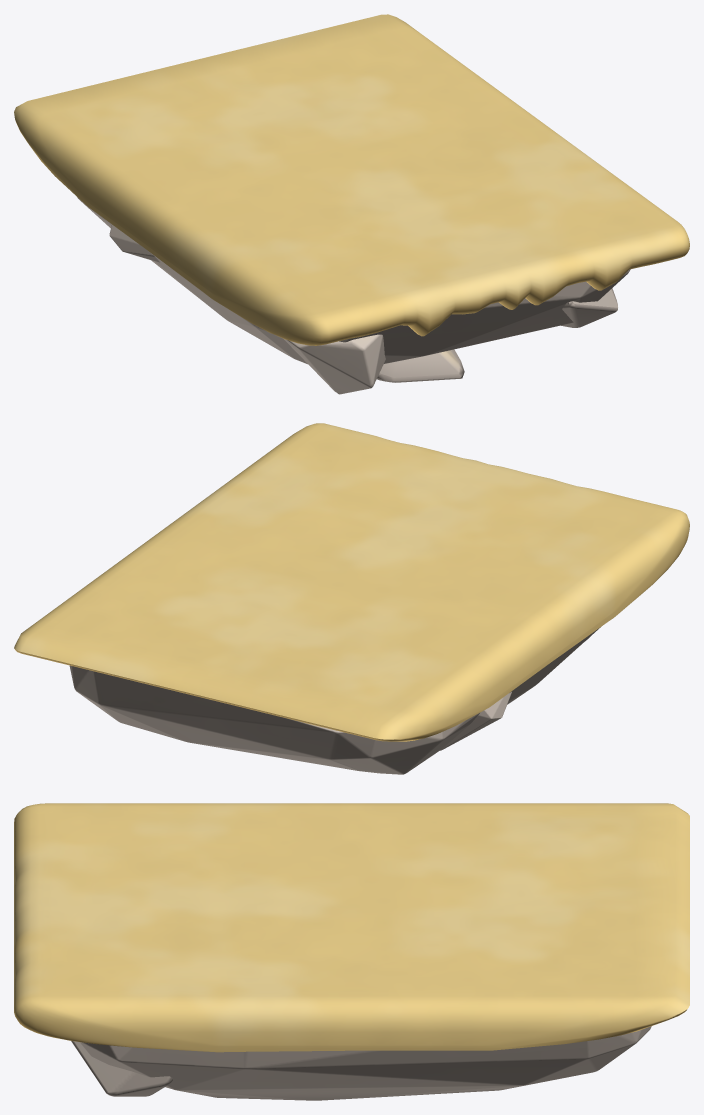
Rendered from CC_T06_IslandPlatform.fbx.
3 renders of one model, top to bottom at view 1: azimuth 30°, elevation 25°; view 2: azimuth 150°, elevation 25°; view 3: azimuth 270°, elevation 25°, orthographic. The views are drawn at different scales.
Parts seen in each view (by area): view 1: SandCap, Rock; view 2: SandCap, Rock; view 3: SandCap, Rock.
Boxes of the visible parts, bbox=[...] form: SandCap: bbox=[14, 14, 689, 345]; Rock: bbox=[77, 197, 630, 394]; SandCap: bbox=[14, 423, 689, 741]; Rock: bbox=[69, 627, 600, 774]; SandCap: bbox=[14, 803, 689, 1052]; Rock: bbox=[71, 1026, 651, 1100].
Bounding box in the file's own units: 3 × 0.9896 × 3.99.
